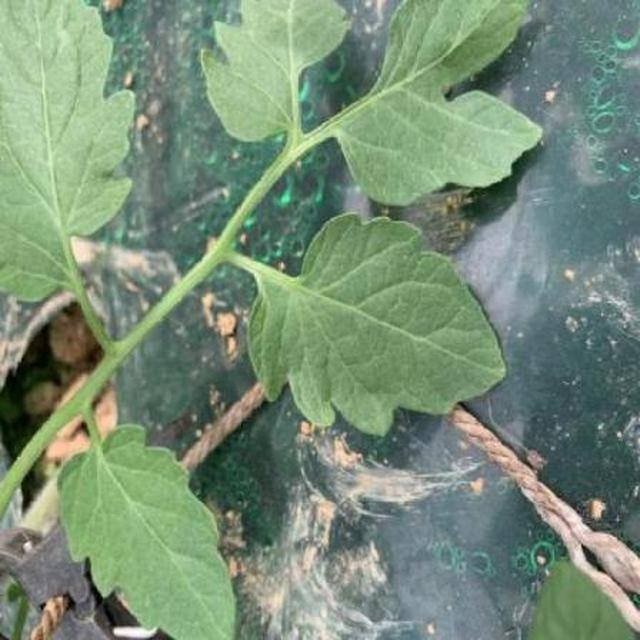Healthy Leaf: (96, 148, 630, 640)
